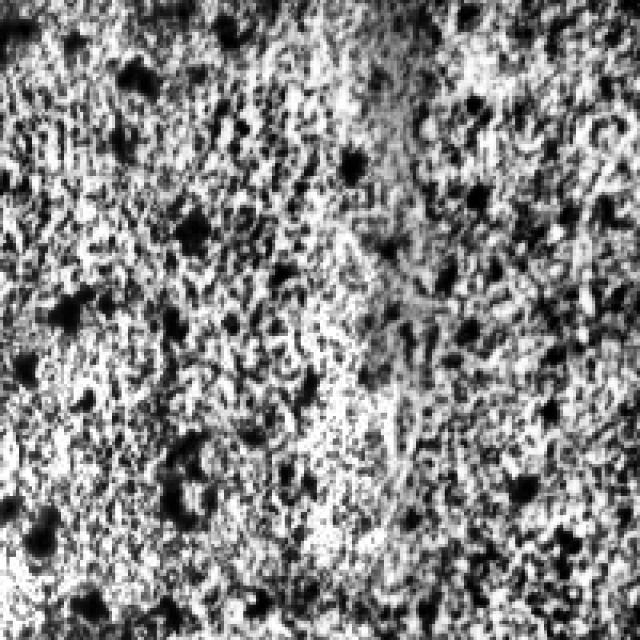Rolled_in_Scale: (12, 19, 394, 589), (320, 0, 586, 618)
